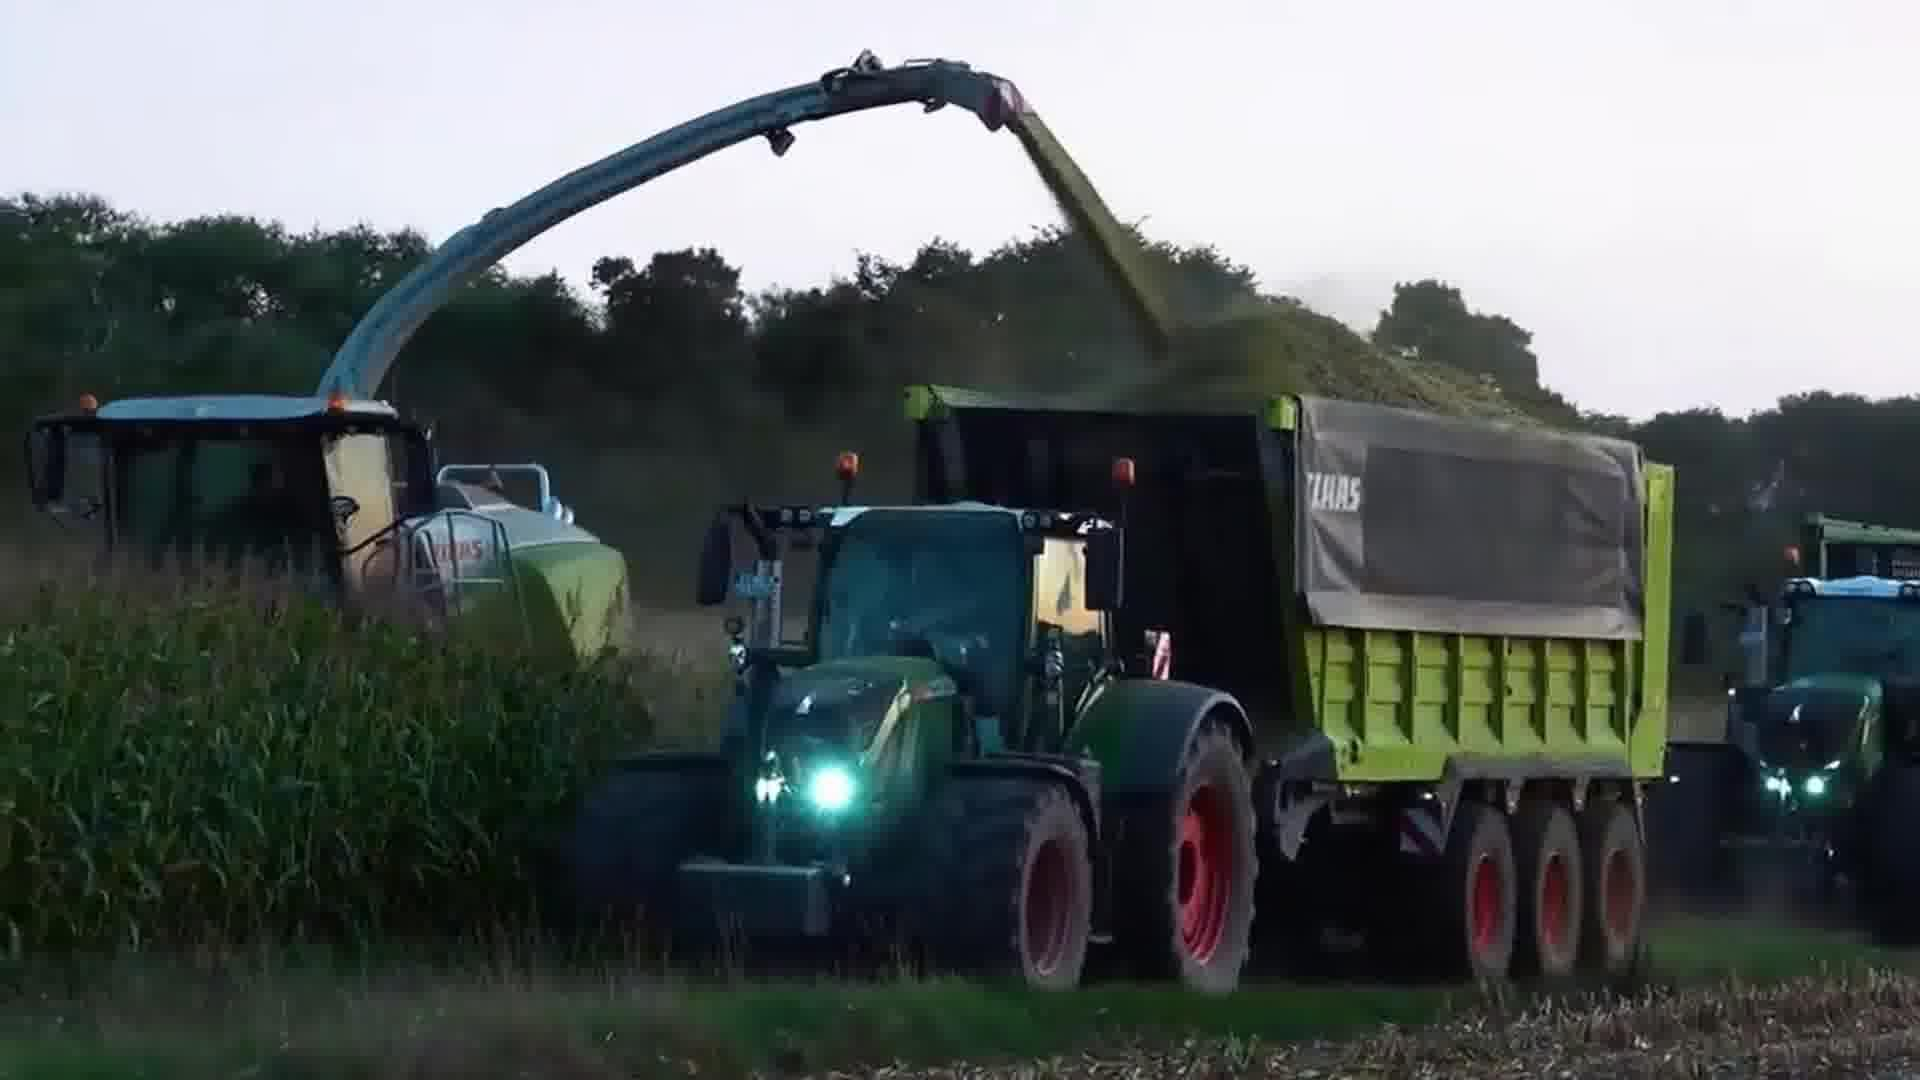combine harvester: (20, 47, 1042, 705)
tractor: (521, 447, 1265, 1018), (1647, 543, 1920, 940)
trailer: (894, 359, 1684, 998)
